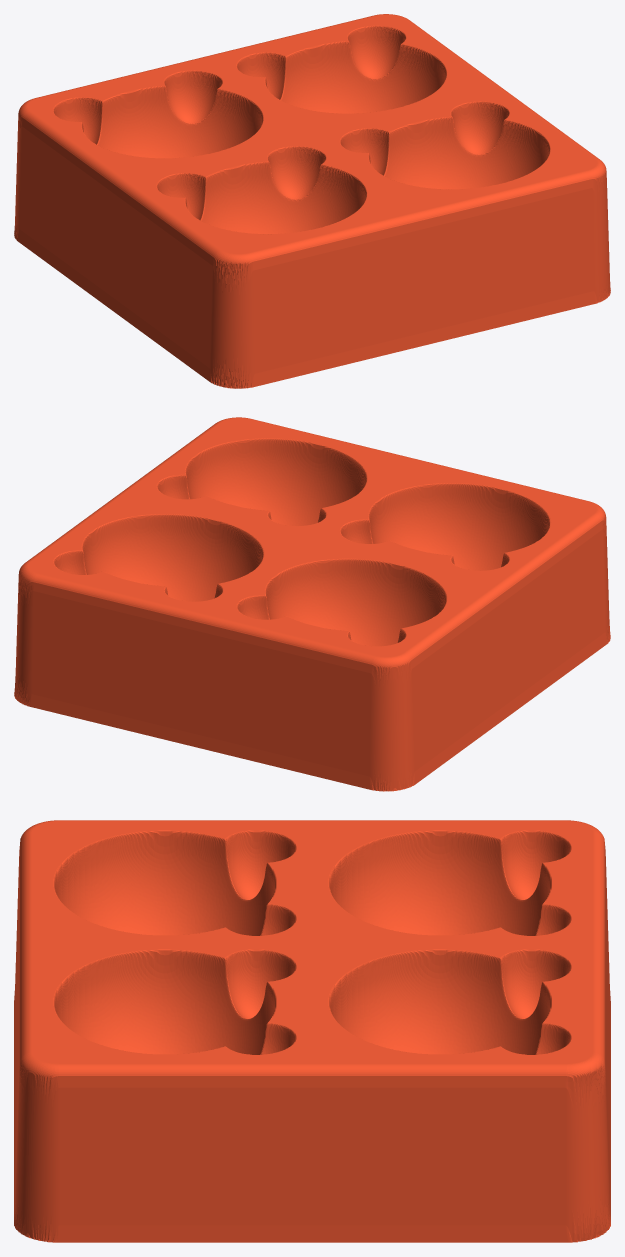
File: mold.glb
The picture shows the model from 3 angles, top to bottom: view 1: azimuth 30°, elevation 25°; view 2: azimuth 150°, elevation 25°; view 3: azimuth 270°, elevation 25°; orthographic projection. The views are drawn at different scales.
Visible parts, largest first — view 1: geometry_0; view 2: geometry_0; view 3: geometry_0.
Part boxes in pixels (box(x1,y1,x2,y2)): geometry_0: box(14, 14, 610, 388); geometry_0: box(14, 417, 610, 791); geometry_0: box(14, 820, 610, 1242).
Size of the model in its own units: 0.1218 by 0.0377 by 0.1193.
